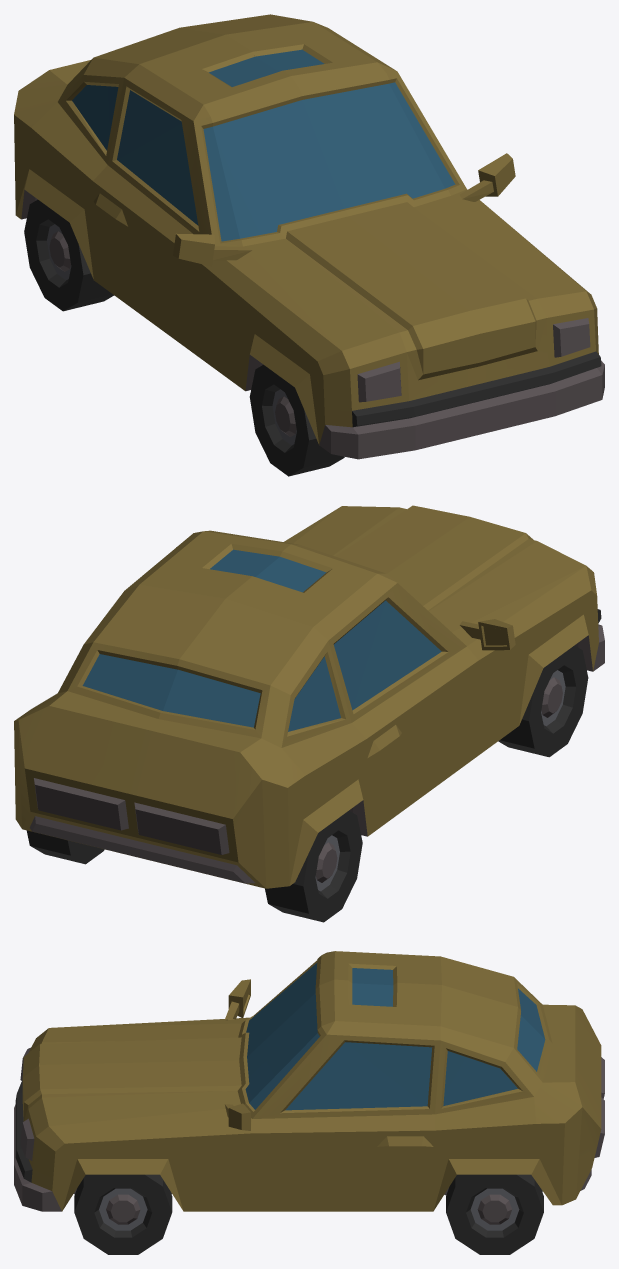
The model's file is LP_VehicleK.fbx.
3 views of the same model, one above another, from view 1: azimuth 30°, elevation 25°; view 2: azimuth 150°, elevation 25°; view 3: azimuth 270°, elevation 25° (orthographic). The views are drawn at different scales.
Visible parts, largest first — view 1: VehicleK; view 2: VehicleK; view 3: VehicleK.
Boxes of the visible parts, x1,y1,x2,y2 form: VehicleK: (14,14,604,476); VehicleK: (14,505,604,922); VehicleK: (14,951,604,1254).
Size of the model in its own units: 179 by 135 by 331.
